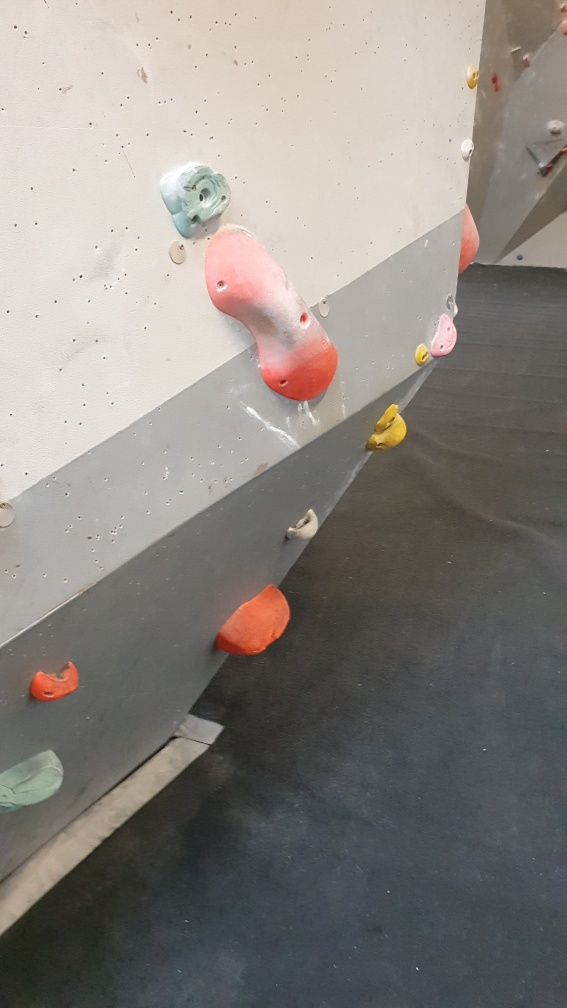Pinch: (203, 221, 336, 401)
